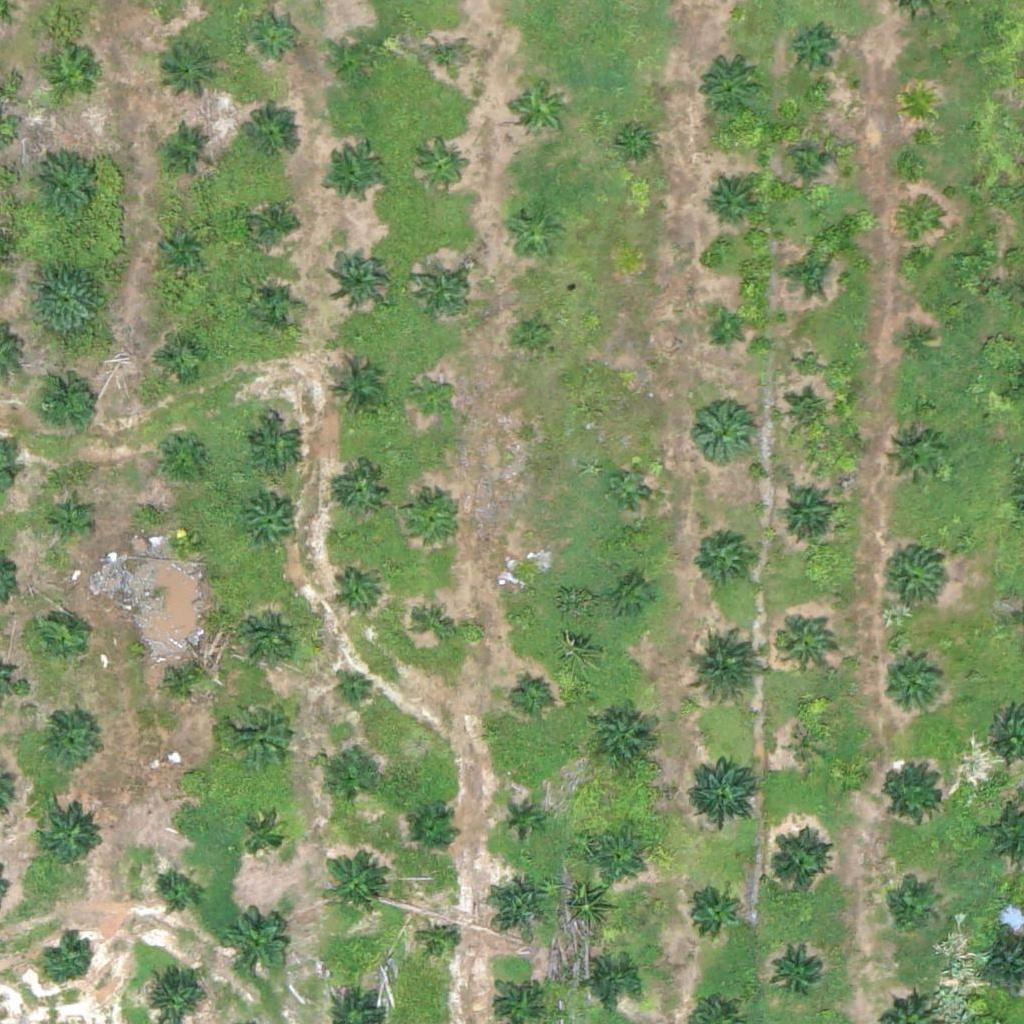Kelapa_Sawit: (26, 147, 101, 223), (30, 365, 105, 441), (225, 691, 300, 767), (30, 261, 105, 337), (684, 634, 759, 709), (686, 748, 761, 823), (485, 870, 548, 933), (222, 911, 285, 974), (690, 398, 753, 461), (501, 202, 564, 265), (244, 416, 307, 479), (766, 832, 829, 895), (771, 939, 834, 1002), (160, 40, 223, 103), (508, 79, 571, 142), (239, 109, 302, 172), (323, 147, 385, 210), (321, 852, 383, 915), (38, 800, 100, 863), (589, 708, 651, 771), (691, 525, 753, 588), (236, 608, 298, 671), (324, 360, 386, 423), (411, 261, 473, 324), (327, 244, 389, 307), (35, 710, 97, 773), (696, 57, 758, 120), (774, 482, 836, 545), (884, 762, 946, 825), (884, 426, 946, 489), (882, 546, 944, 609), (886, 657, 948, 720), (776, 611, 838, 674), (241, 495, 303, 557), (417, 140, 467, 191), (591, 835, 641, 886), (686, 886, 736, 937), (702, 178, 752, 229), (779, 248, 829, 299), (421, 34, 471, 85), (333, 32, 383, 83), (251, 9, 301, 60), (586, 957, 636, 1007), (41, 934, 91, 984), (156, 428, 206, 478), (155, 332, 205, 382), (337, 463, 387, 513), (407, 495, 457, 545), (320, 758, 370, 808), (33, 611, 83, 661), (783, 28, 833, 78), (885, 880, 935, 930), (48, 53, 98, 103), (406, 805, 456, 855), (237, 814, 287, 864), (152, 871, 202, 921), (160, 654, 210, 704), (780, 391, 830, 441), (784, 142, 834, 192), (249, 198, 299, 248), (251, 282, 301, 332), (157, 218, 207, 268), (162, 123, 212, 173), (332, 567, 382, 617), (48, 501, 86, 539), (422, 926, 460, 964), (335, 669, 373, 707), (899, 85, 937, 123), (901, 207, 939, 245), (900, 327, 938, 365), (616, 128, 654, 166), (412, 380, 450, 418), (510, 563, 548, 601), (416, 605, 454, 643), (615, 579, 652, 617), (790, 728, 827, 766), (501, 801, 538, 839), (515, 677, 553, 714), (707, 311, 744, 349), (515, 317, 552, 354), (610, 467, 647, 504), (169, 529, 194, 554), (176, 764, 201, 789)
